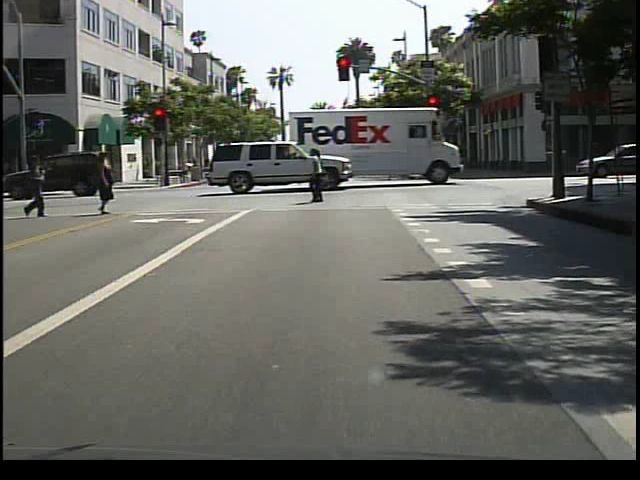person: (25, 153, 57, 219), (91, 152, 121, 218), (304, 146, 336, 206)
